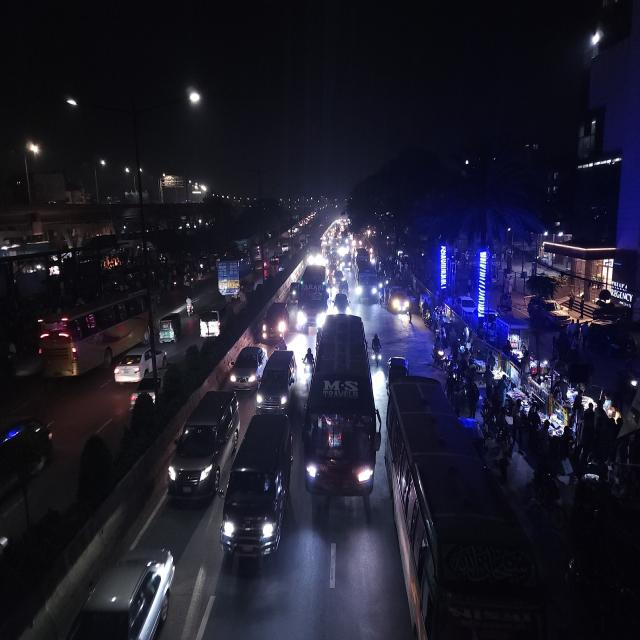bus: (384, 376, 546, 640), (306, 310, 378, 509), (37, 286, 152, 381), (299, 262, 329, 332), (352, 248, 380, 306), (385, 277, 410, 317)
car: (222, 409, 294, 570), (69, 542, 177, 638), (166, 387, 240, 507), (0, 410, 55, 518), (256, 347, 297, 410), (113, 341, 167, 386), (228, 342, 266, 391), (526, 293, 575, 329), (129, 373, 165, 410), (260, 299, 290, 341), (198, 302, 228, 342), (457, 295, 478, 320), (332, 291, 350, 316)
cng: (157, 310, 183, 345), (288, 279, 300, 306)
motorcycle: (302, 345, 316, 388), (371, 331, 383, 368), (184, 294, 196, 317)
truck: (215, 254, 252, 300), (216, 254, 253, 300)
